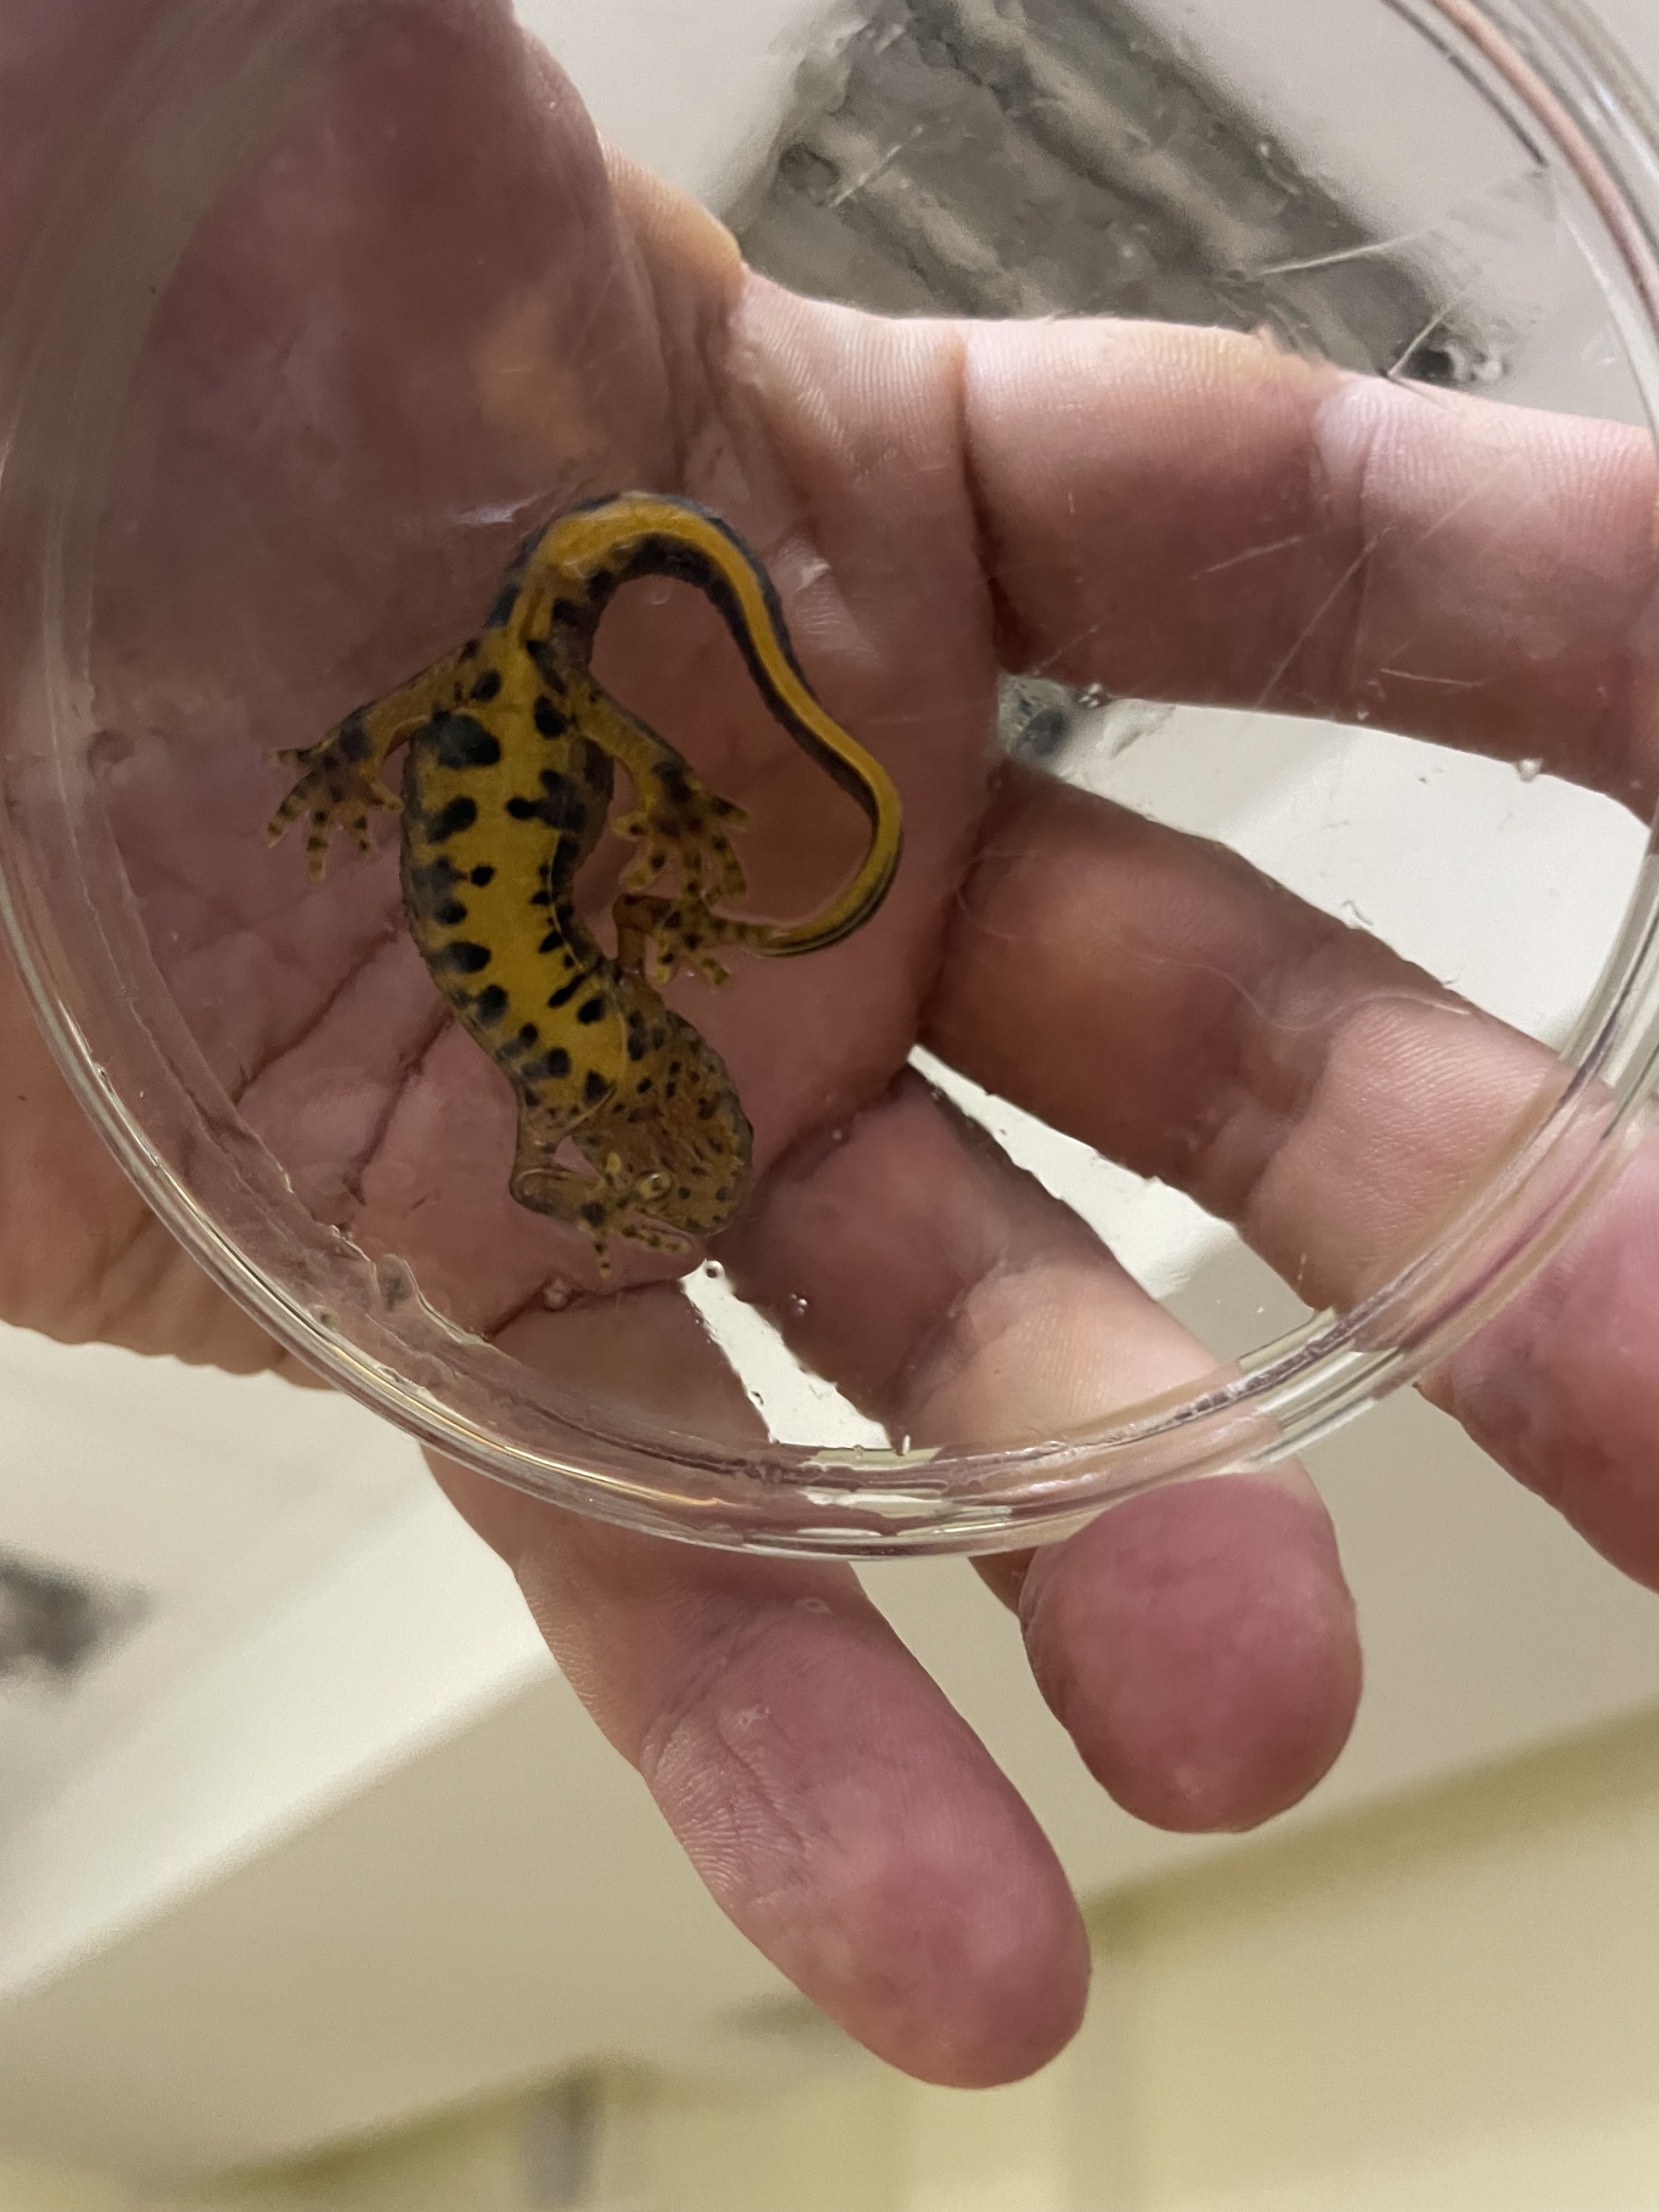Karelin_newt: (399, 737, 615, 1082)
